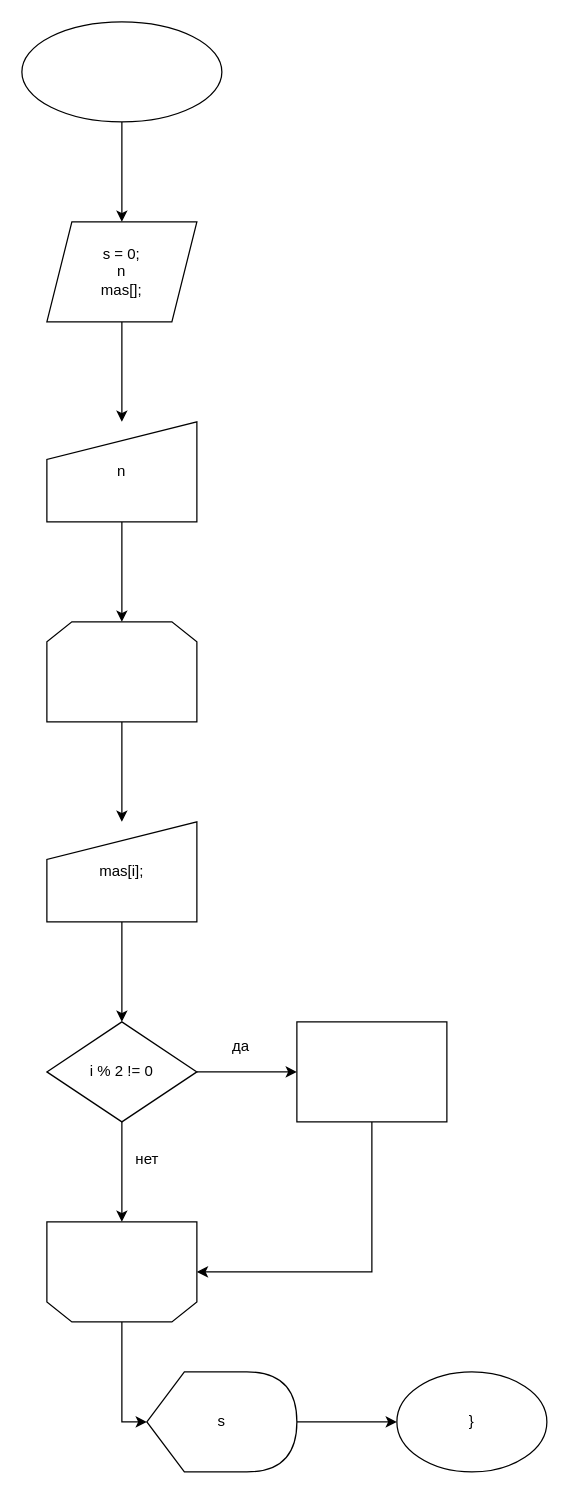
This 569x1494 diagram has some shape labels left out. Here are the shapes that lost their labels. From the top down, the centre of each, then its label:
the point at 121,71: main{
the point at 121,671: int i =0;i<n;i++
the point at 371,1071: s = s + mas[i];
